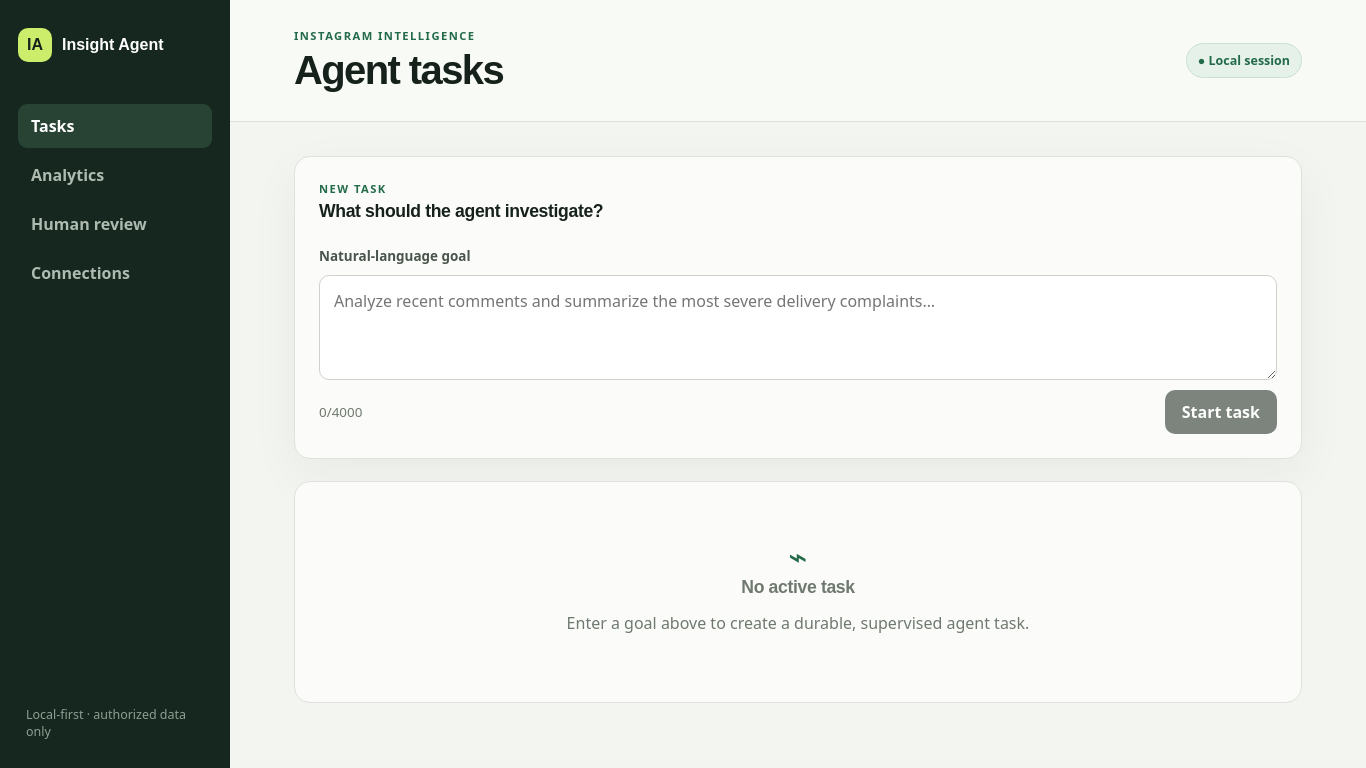
it: dashboard › renders failed task state
The image size is (1366, 768).
Type "Analyze comments" into the text box labelled "Natural-language goal" at (798, 327), box [319,275,1277,380]
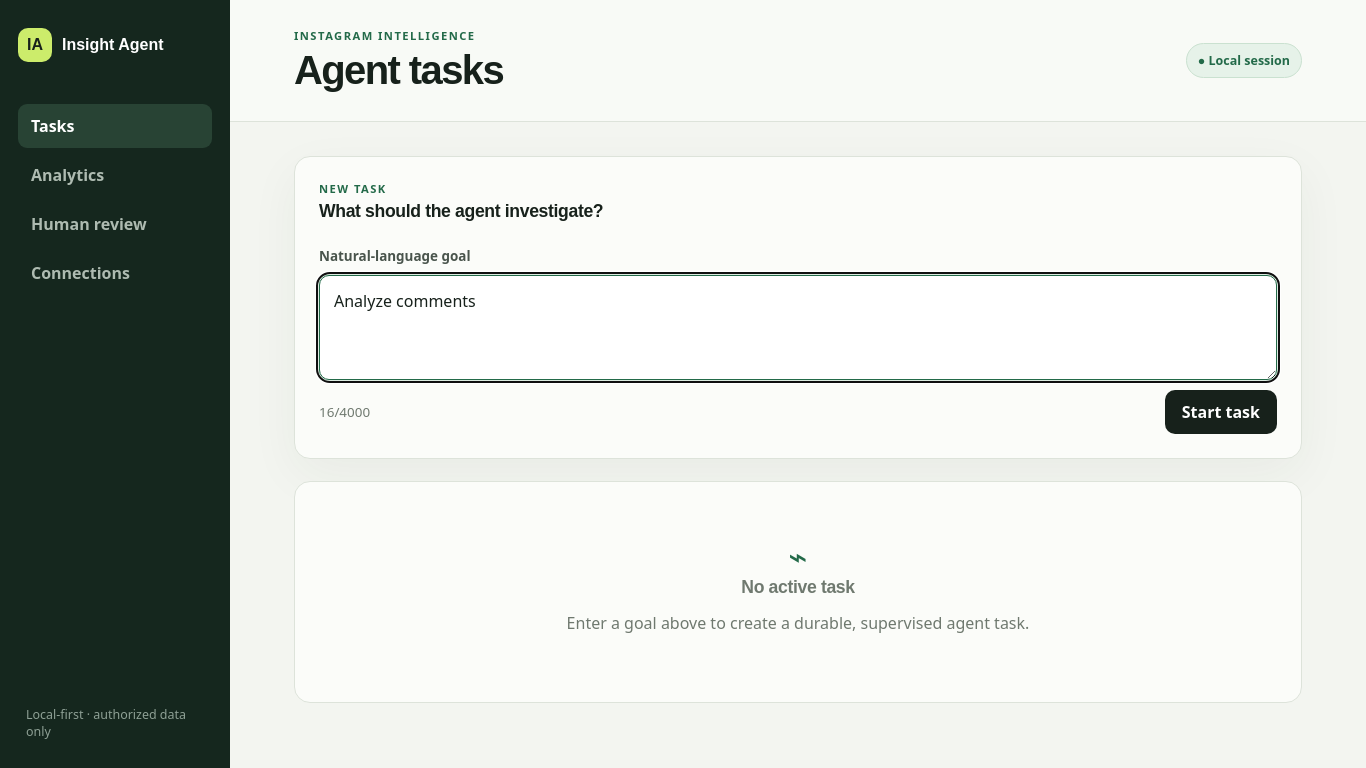
Click the button "Start task" at (1221, 412), box [1165,390,1277,434]
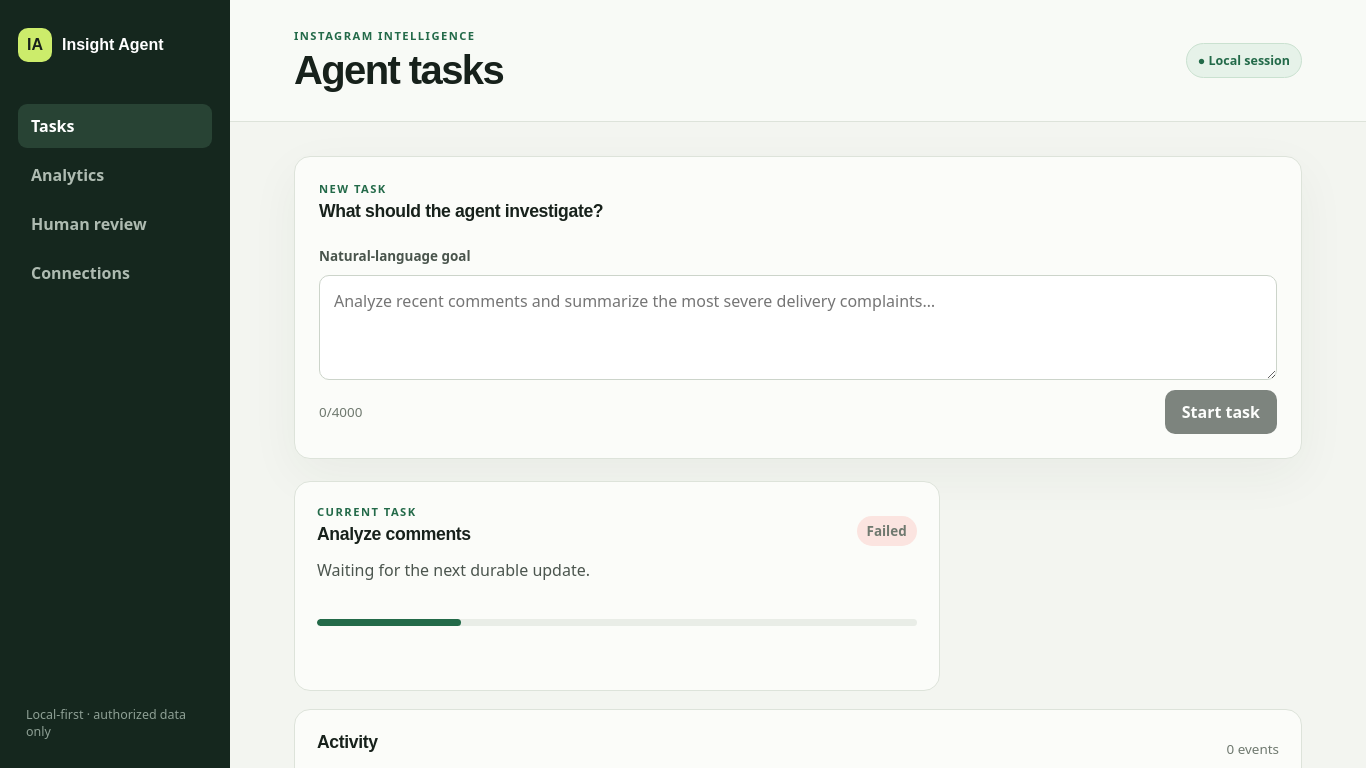
Check: the text "Failed" is shown, box [856,516,917,546]
